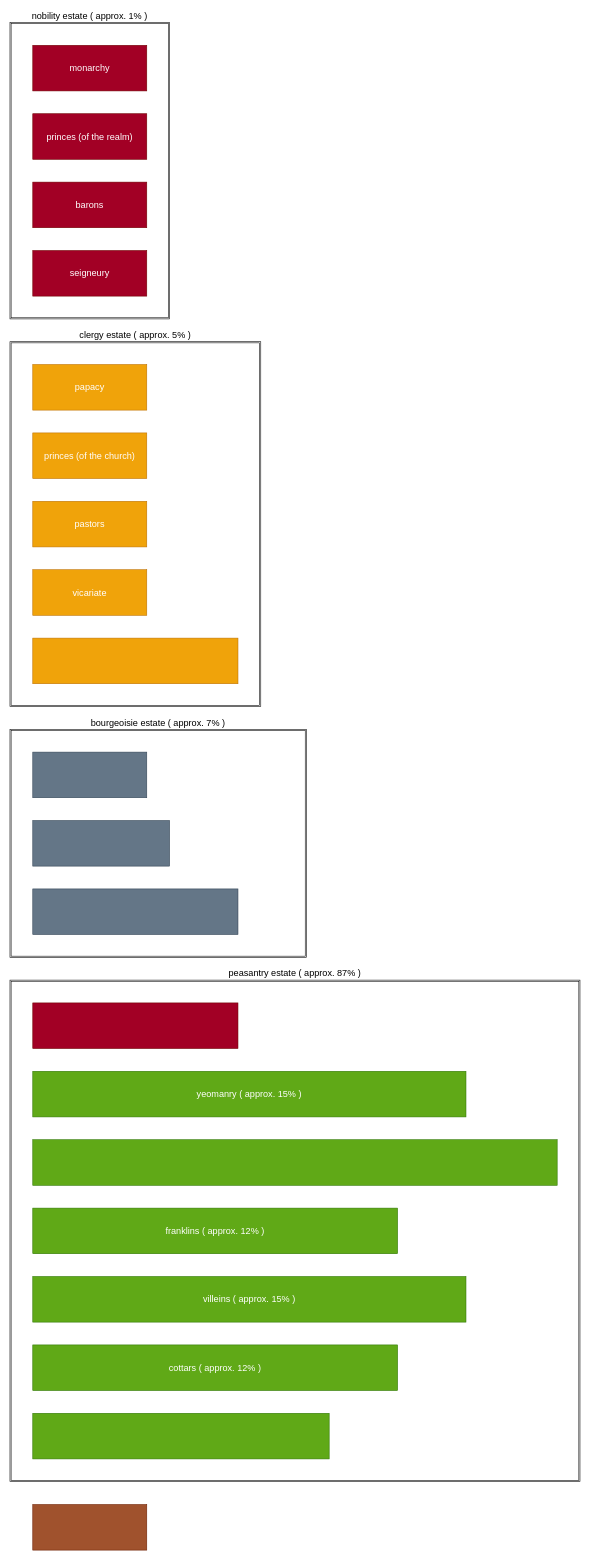
This 590x1560 diagram has some shape labels left out. Here are the shapes that lost their labels. From the top down, the centre of each, then its label:
[135,661]: monks ( approx. 5% )
[89,775]: patricians
[101,843]: mercers ( approx. 2% )
[135,911]: artisans ( approx. 5% )
[135,1025]: gentry ( approx. 5% )
[294,1162]: husbandry ( approx. 19% )
[180,1436]: serfs ( approx. 9% )
[89,1527]: outlaws
